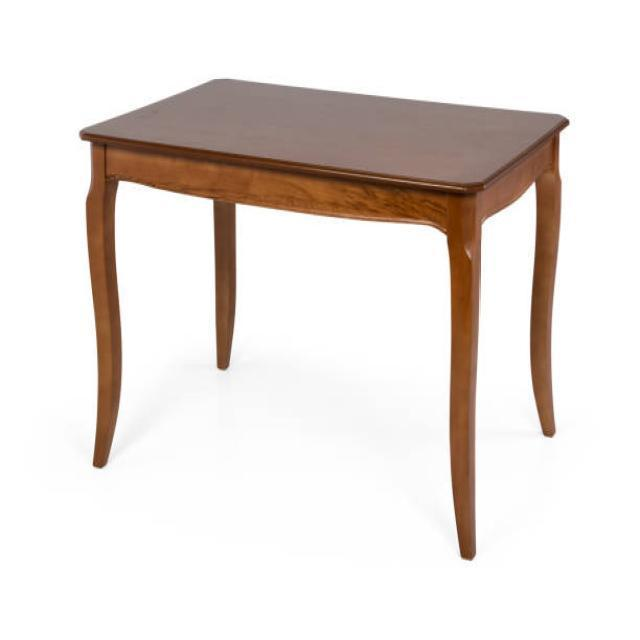table: (78, 75, 570, 560)
